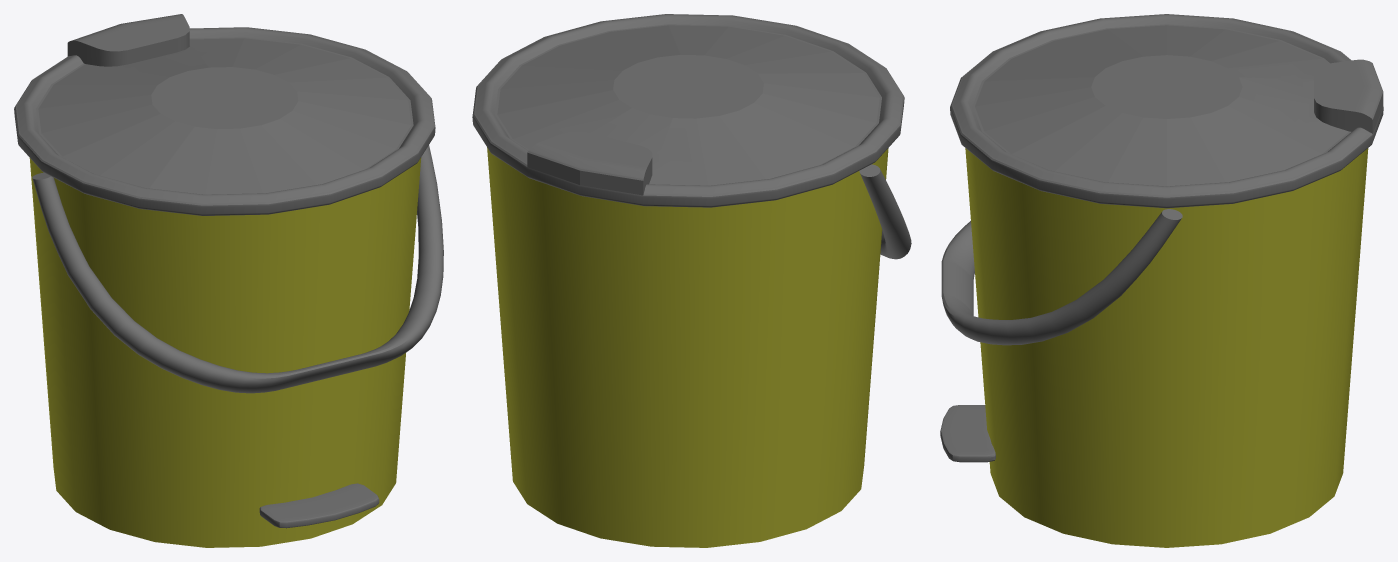
The model's file is plastic waste bin.fbx.
3 renders of one model, left to right at view 1: azimuth 30°, elevation 25°; view 2: azimuth 150°, elevation 25°; view 3: azimuth 270°, elevation 25°, orthographic. The views are drawn at different scales.
Parts seen in each view (by area): view 1: polySurface501, polySurface504; view 2: polySurface501, polySurface504; view 3: polySurface501, polySurface504.
Part boxes in pixels (x1,y1,x2,y2): polySurface501: (29, 145, 443, 547); polySurface504: (14, 14, 435, 215); polySurface501: (487, 147, 911, 547); polySurface504: (472, 14, 904, 207); polySurface501: (940, 148, 1368, 547); polySurface504: (950, 14, 1383, 208).
Size of the model in its own units: 34.98 by 33.51 by 34.66.
